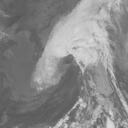cyclone: (33, 15, 115, 101)
